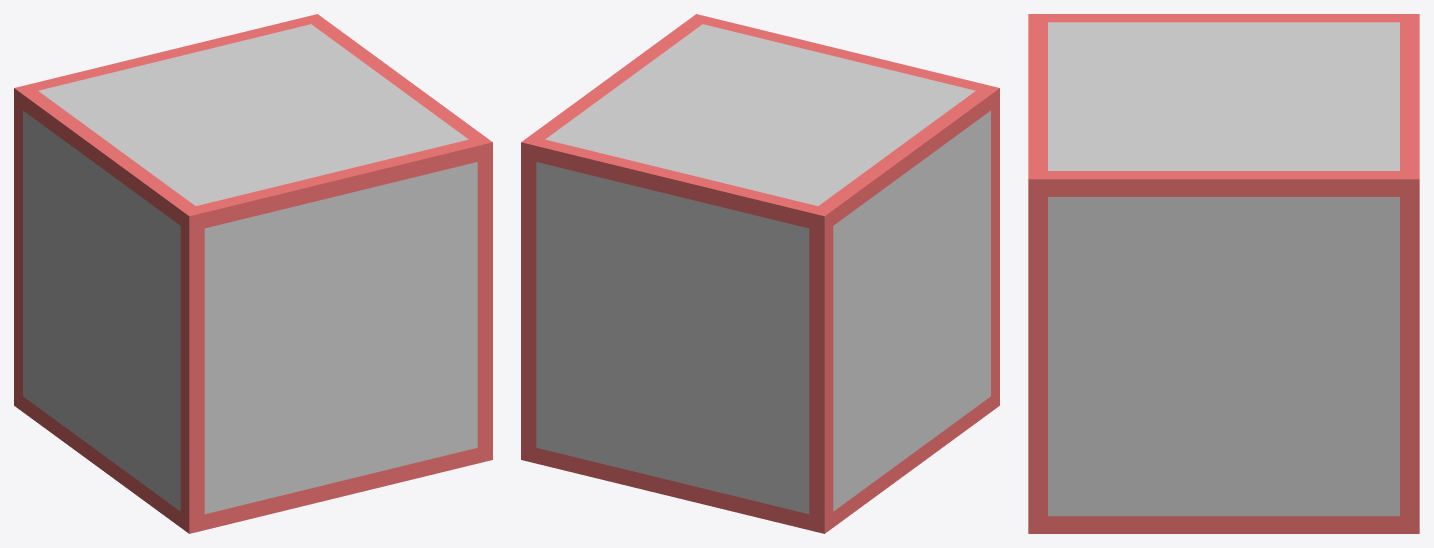
The model's file is HyperCube.fbx.
3 views of the same model, side by side, from view 1: azimuth 30°, elevation 25°; view 2: azimuth 150°, elevation 25°; view 3: azimuth 270°, elevation 25° (orthographic). The views are drawn at different scales.
Parts seen in each view (by area): view 1: Cube; view 2: Cube; view 3: Cube.
Boxes of the visible parts, <box> form: Cube: <box>14,14,492,533</box>; Cube: <box>521,14,999,533</box>; Cube: <box>1028,14,1419,533</box>.
Bounding box in the file's own units: 200 × 200 × 200.
